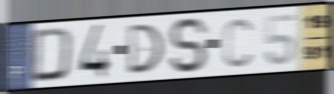4: (76, 22, 113, 81)
5: (264, 12, 296, 67)
C: (222, 17, 254, 70)
D: (29, 25, 75, 84), (126, 22, 166, 77)
S: (167, 16, 211, 75)
